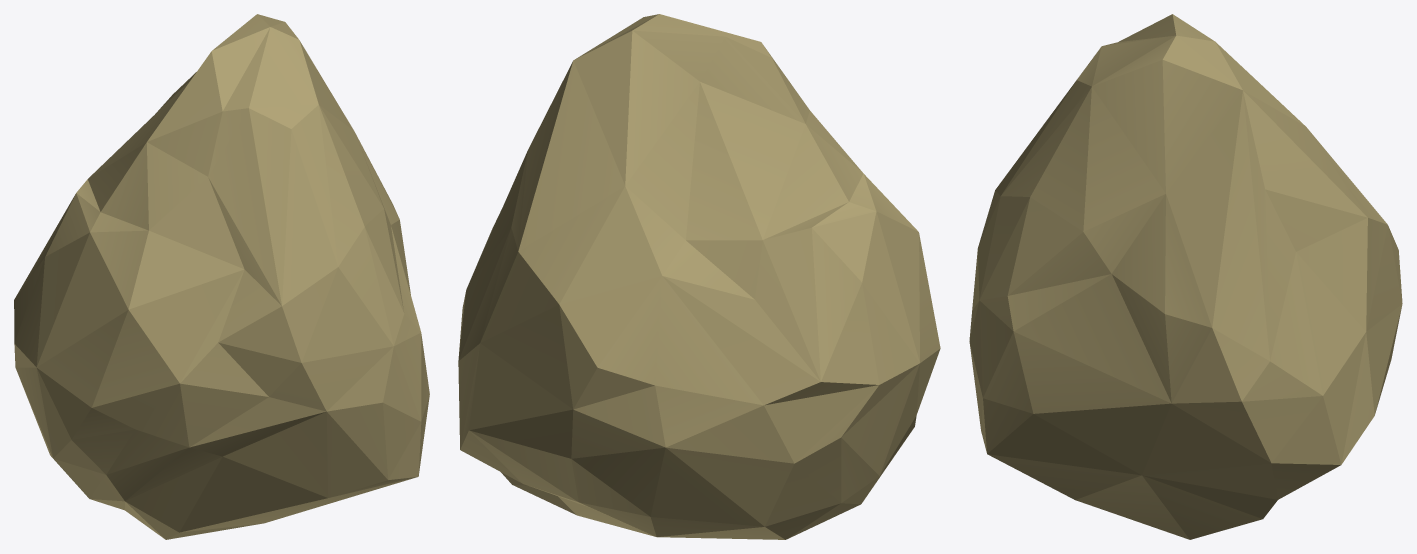
The model's file is SM_rock_31.fbx.
3 renders of one model, left to right at view 1: azimuth 30°, elevation 25°; view 2: azimuth 150°, elevation 25°; view 3: azimuth 270°, elevation 25°, orthographic. The views are drawn at different scales.
Parts seen in each view (by area): view 1: rock_31; view 2: rock_31; view 3: rock_31.
Part boxes in pixels (x1,y1,x2,y2): rock_31: (14,14,429,539); rock_31: (458,14,940,539); rock_31: (969,14,1402,539).
Bounding box in the file's own units: 147 × 172 × 140.
